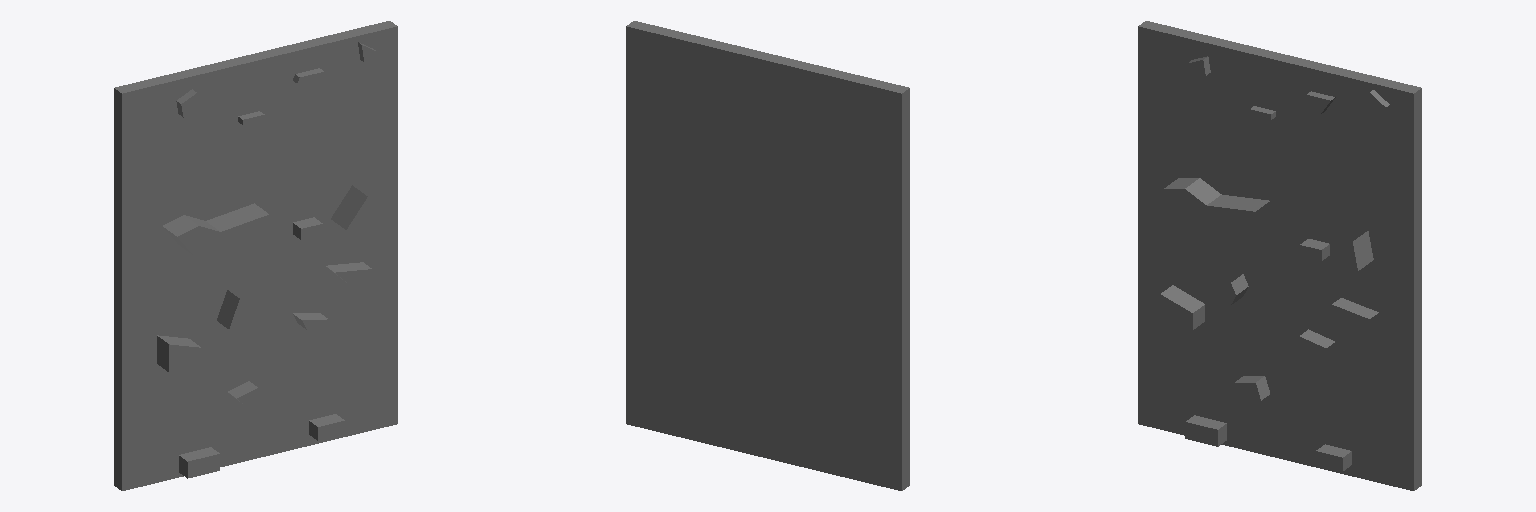
URDF robot description (object):
<?xml version="1.0"?>
<robot name="object">
  <link name="object">
    <visual>
      <origin xyz="0 0 0"/>
      <geometry>
        <mesh
          filename="../mesh/climbing_wall.stl" />
      </geometry>
      <material name="mat">
        <color rgba="0.5 0.5 0.5 1"/>
      </material>
    </visual>

    <collision>
      <origin xyz="0 0 0"/>
      <geometry>
        <mesh
          filename="../mesh/climbing_wall.stl" />
      </geometry>
    </collision>
  </link>
</robot>

--- What the picture shows (computed from the rendered views, not written in the file) ---
The picture shows the robot from 3 angles, left to right: view 1: azimuth 30°, elevation 25°; view 2: azimuth 150°, elevation 25°; view 3: azimuth 330°, elevation 25°; orthographic projection.
Model object with 1 links and 0 joints (none), rooted at object, posed all joints at 0.
Links seen in each view (by area): view 1: object; view 2: object; view 3: object.
Boxes of the visible links, x1=… form: object: x1=114, y1=21, x2=397, y2=490; object: x1=626, y1=21, x2=909, y2=490; object: x1=1138, y1=21, x2=1421, y2=490.
Size in the robot's own frame: 0.508 by 0.0754 by 0.7 metres.
1 mesh visuals loaded from 1 distinct referenced files (1 binary STL).